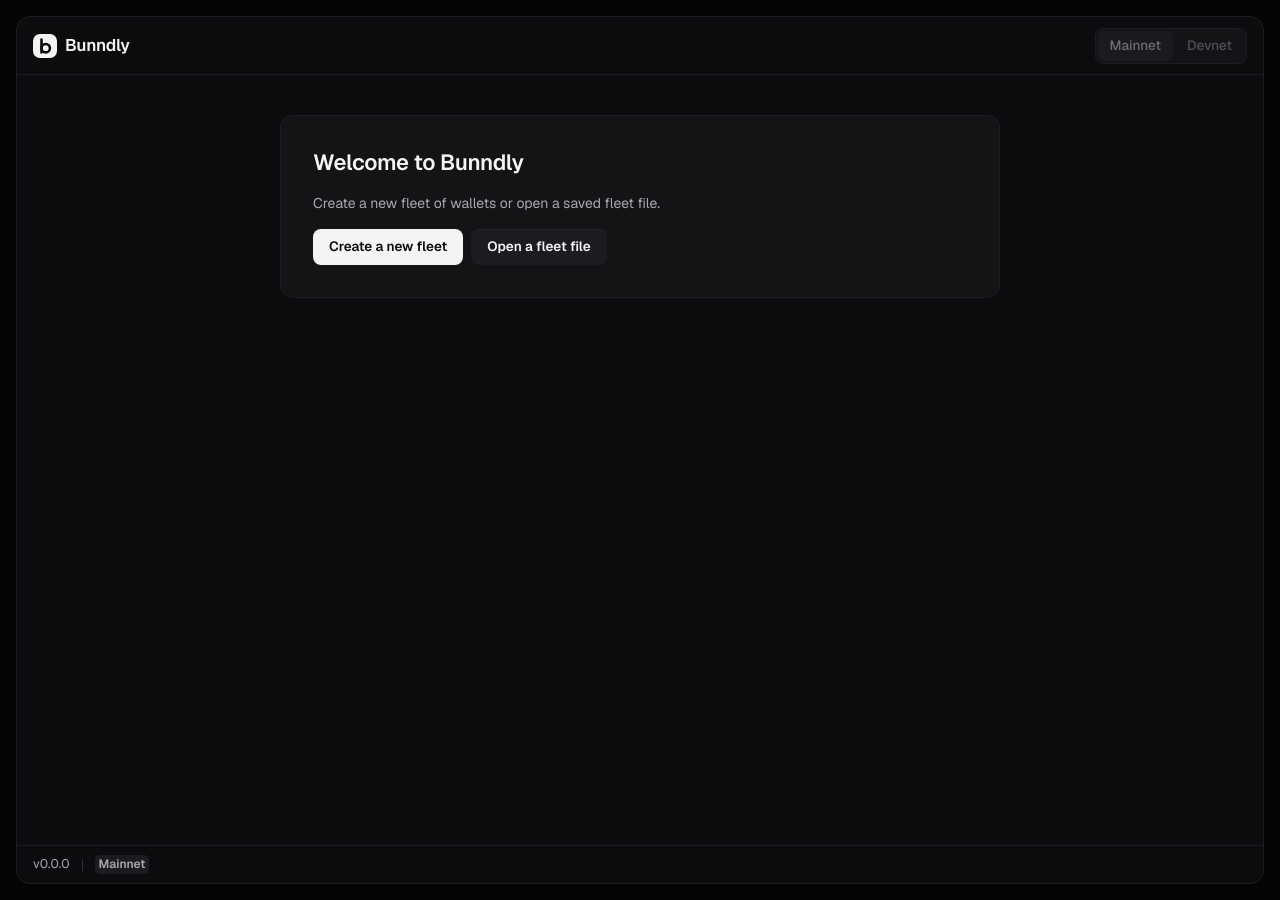
Test case: navigation › locked vault: start screen, wizard and back; no fleet navigation or lock button
The image size is (1280, 900).
Expected: the heading "Welcome to Bunndly" is shown, [313,148,524,178]
Click the button "Create a new fleet" at (388, 247), box [313,229,463,265]
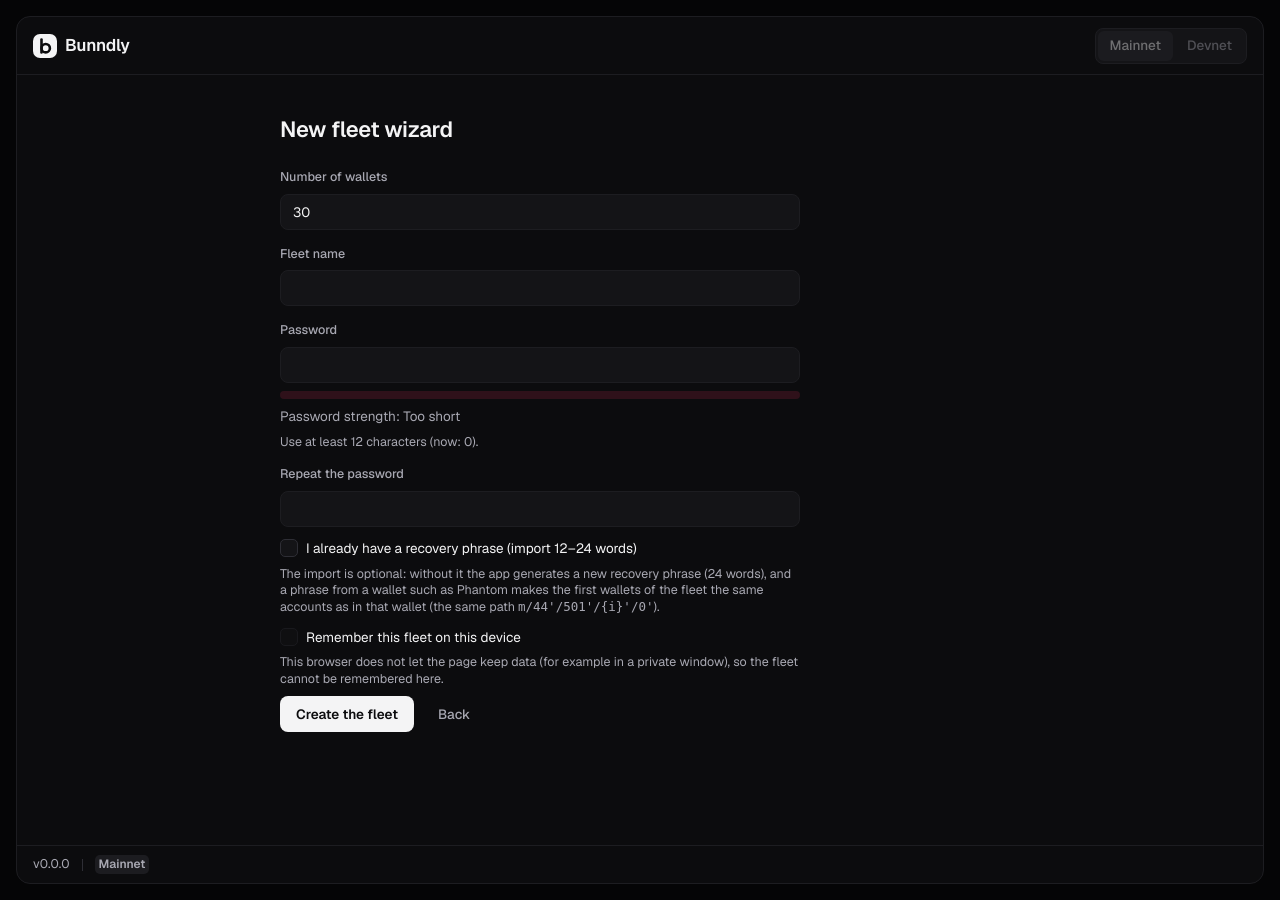
Expected: the heading "New fleet wizard" is shown, [280,115,453,143]
Click the button "Back" at (454, 714), box [422,696,486,732]
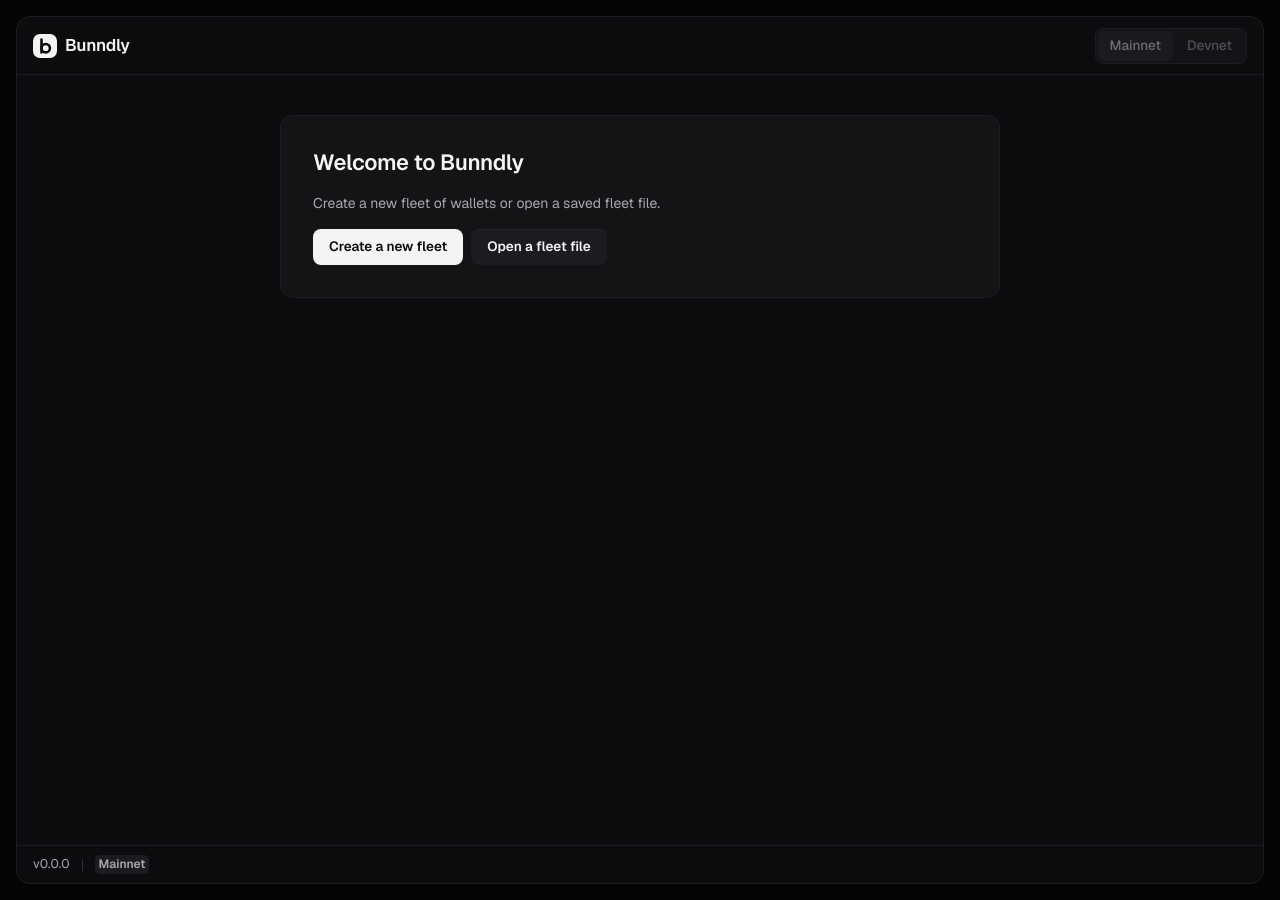
Expected: the heading "Welcome to Bunndly" is shown, [313,148,524,178]
